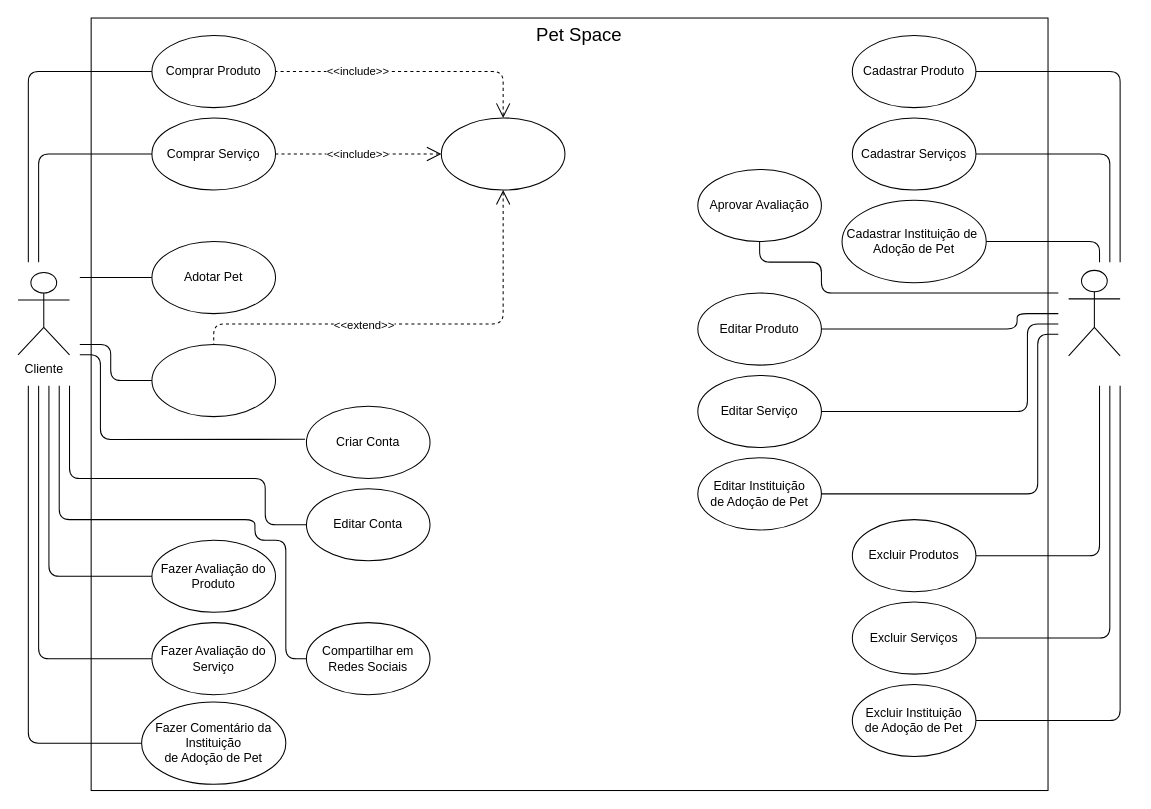
This 1151x809 diagram has some shape labels left out. Here are the shapes that lost their labels. From the top down, the box of each, then its label:
(440, 117, 565, 190): Finalizar Compra
(1068, 269, 1120, 356): Administrador
(151, 344, 276, 417): Fazer Login
